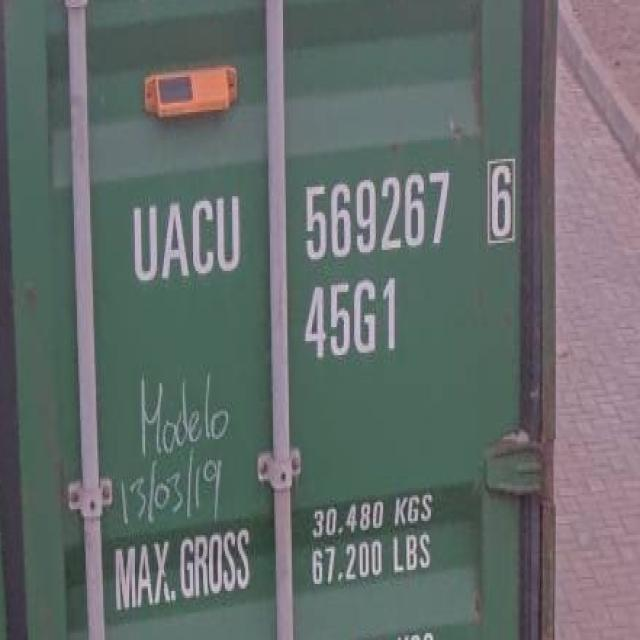dv: (480, 149, 518, 253)
owner: (126, 184, 244, 292)
serial: (295, 158, 456, 268)
size: (297, 272, 403, 373)
